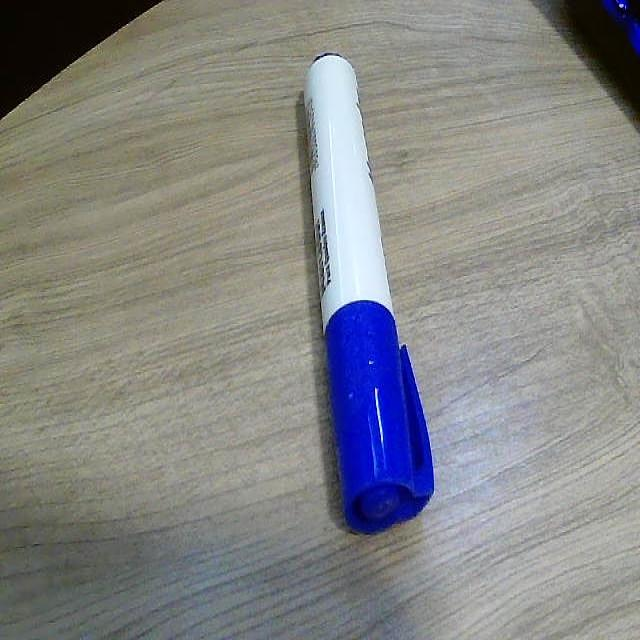caneta: (292, 39, 454, 541)
